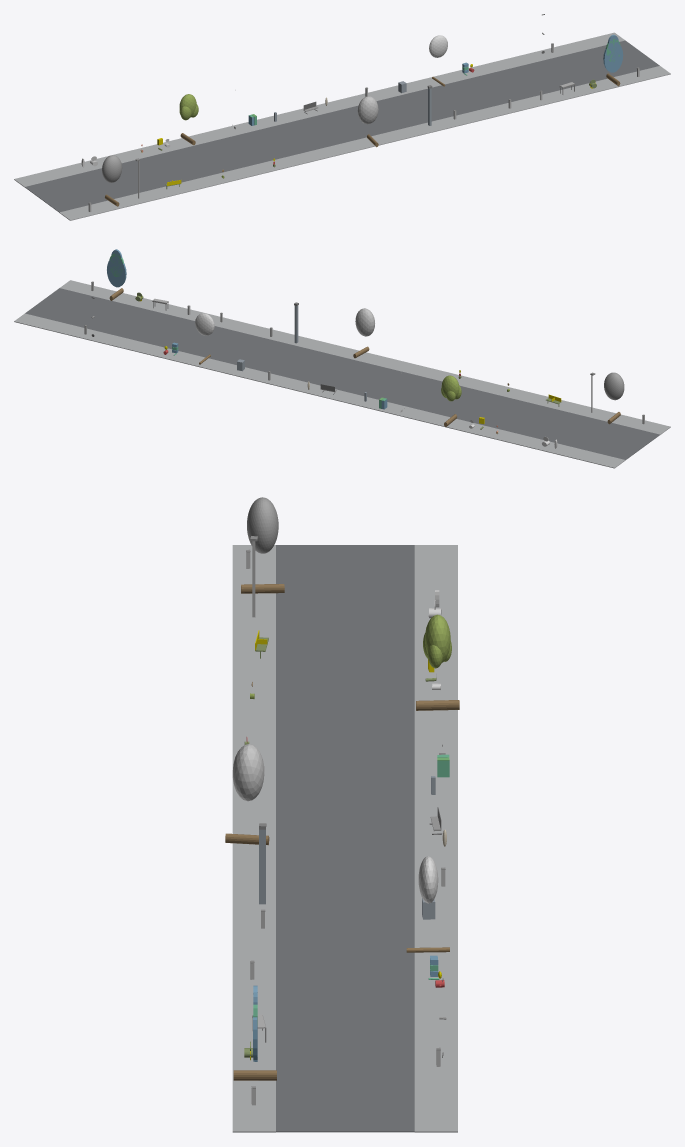
3 views of the same model, one above another, from view 1: azimuth 30°, elevation 25°; view 2: azimuth 150°, elevation 25°; view 3: azimuth 270°, elevation 25° (orthographic). The views are drawn at different scales.
Visible parts, largest first — view 1: road_slab, sidewalk_left, sidewalk_right, inst_0016, inst_0014, inst_0012, inst_0013, inst_0015; view 2: road_slab, sidewalk_right, sidewalk_left, inst_0016, inst_0012, inst_0014, inst_0013, inst_0015; view 3: road_slab, sidewalk_right, sidewalk_left, inst_0014, inst_0012, inst_0013, inst_0015.
Part boxes in pixels (left/top/right/bottom): road_slab: left=25, top=40, right=659, bottom=212; sidewalk_left: left=59, top=66, right=670, bottom=220; sidewalk_right: left=14, top=32, right=624, bottom=187; inst_0016: left=603, top=34, right=623, bottom=86; inst_0014: left=357, top=96, right=378, bottom=147; inst_0012: left=102, top=155, right=122, bottom=206; inst_0013: left=179, top=94, right=198, bottom=145; inst_0015: left=429, top=35, right=447, bottom=86; road_slab: left=25, top=288, right=659, bottom=460; sidewalk_right: left=14, top=313, right=625, bottom=468; sidewalk_left: left=60, top=280, right=670, bottom=434; inst_0016: left=107, top=249, right=126, bottom=300; inst_0012: left=604, top=372, right=624, bottom=424; inst_0014: left=353, top=308, right=374, bottom=358; inst_0013: left=441, top=375, right=461, bottom=426; inst_0015: left=195, top=313, right=214, bottom=364; road_slab: left=276, top=545, right=414, bottom=1132; sidewalk_right: left=414, top=545, right=457, bottom=1132; sidewalk_left: left=232, top=545, right=275, bottom=1132; inst_0014: left=225, top=744, right=269, bottom=845; inst_0012: left=241, top=497, right=284, bottom=593; inst_0013: left=416, top=614, right=459, bottom=710; inst_0015: left=406, top=856, right=449, bottom=952.
Size of the model in its own units: 80 by 6.08 by 13.51.
